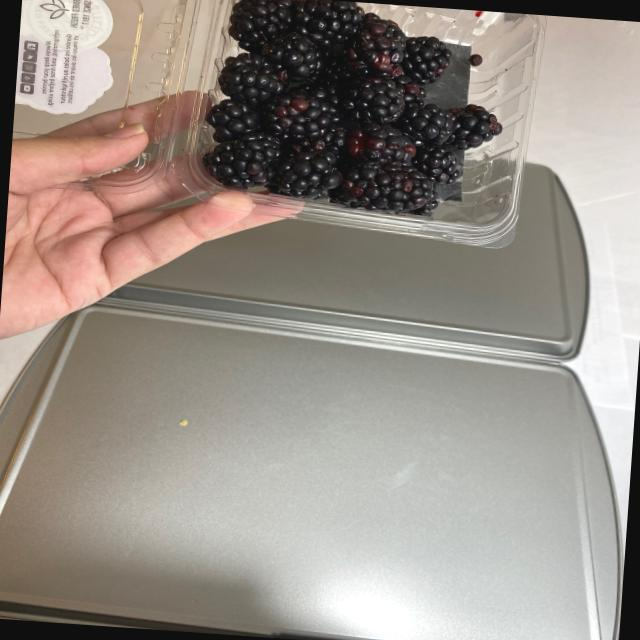blackberries: (189, 0, 543, 221)
